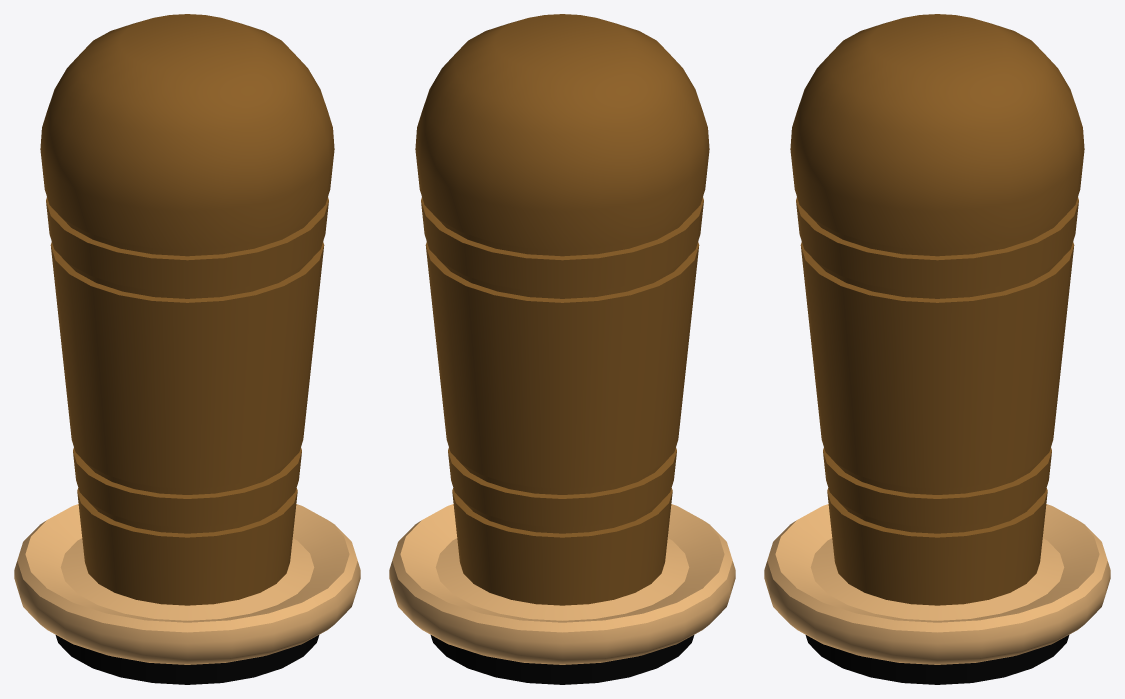
Rendered from damga4.fbx.
The picture shows the model from 3 angles, left to right: view 1: azimuth 30°, elevation 25°; view 2: azimuth 150°, elevation 25°; view 3: azimuth 270°, elevation 25°; orthographic projection.
Parts seen in each view (by area): view 1: damga4; view 2: damga4; view 3: damga4.
Boxes of the visible parts, left/top/right/bottom form: damga4: left=14, top=14, right=360, bottom=684; damga4: left=389, top=14, right=735, bottom=684; damga4: left=764, top=14, right=1110, bottom=684.
Bounding box in the file's own units: 64.34 × 64.34 × 120.
